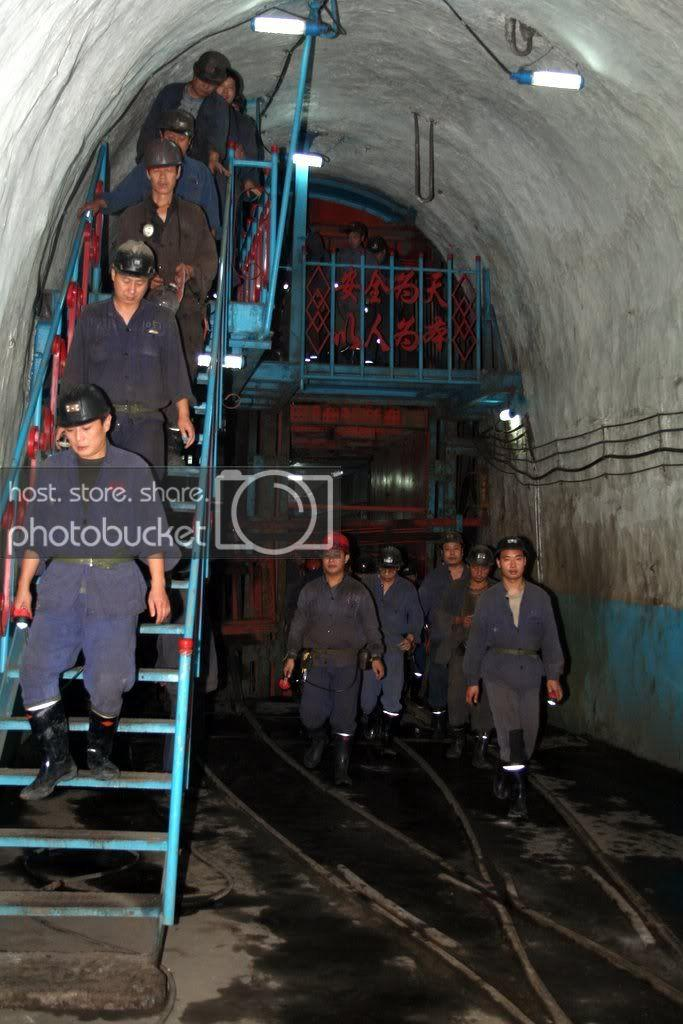helmet: (56, 384, 119, 445), (369, 540, 412, 594), (116, 232, 159, 285), (196, 44, 240, 91), (136, 142, 192, 178), (164, 112, 204, 143), (496, 532, 531, 559), (467, 544, 496, 575), (329, 534, 354, 558), (446, 530, 467, 554)
